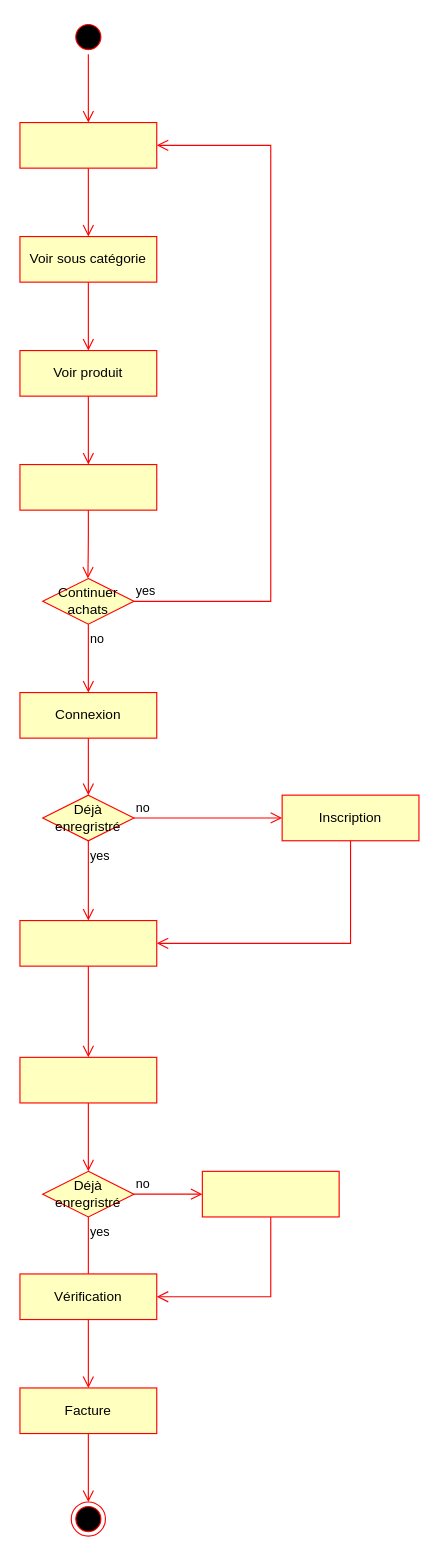
The diagram is 439 pixels wide and 1556 high, and some of its shapes have lost their labels. The shapes that lost their labels are listed below. From the top down, each one's box as (x1, y1, x2, y2) in pixels, then its label:
(19, 121, 157, 168): Voir catégorie
(19, 463, 157, 510): Ajoute produit
(19, 919, 157, 966): Valide panier
(19, 1056, 157, 1103): Moyen de paiement
(201, 1170, 339, 1217): Ajout moyen de paiement
